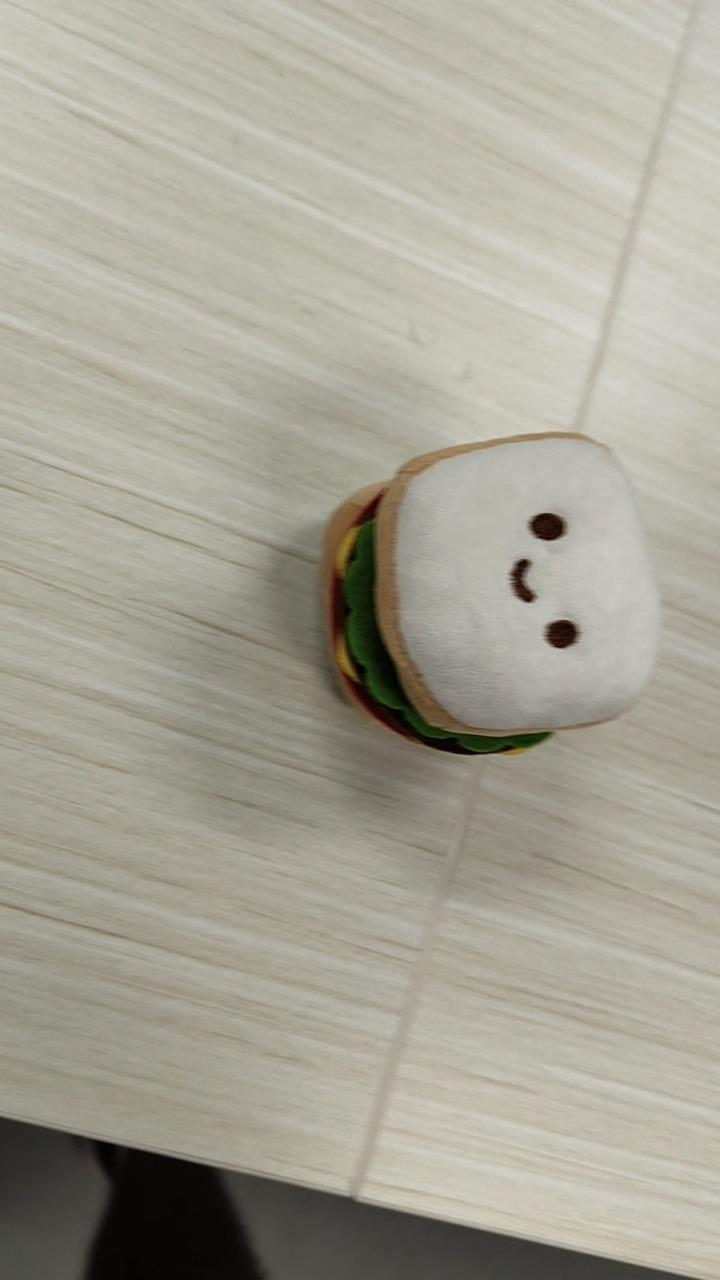objects: (320, 429, 659, 757)
